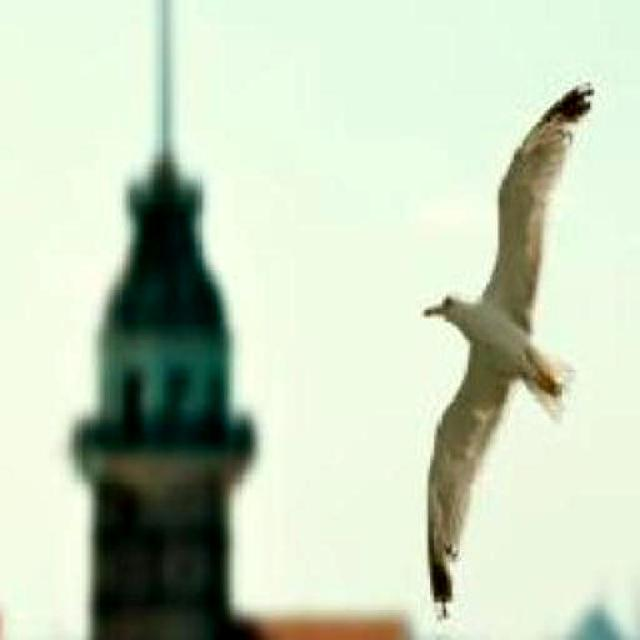airplane: (424, 81, 594, 622)
